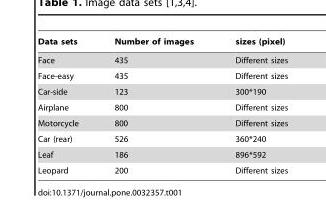table: (37, 36, 287, 174)
table column: (95, 36, 213, 174), (213, 36, 287, 174), (37, 36, 95, 174)
table column header: (37, 36, 287, 50)
table row: (37, 50, 287, 67), (37, 67, 287, 83), (37, 83, 287, 99), (37, 99, 287, 115), (37, 130, 287, 146), (37, 146, 287, 162), (37, 115, 287, 130), (37, 36, 287, 50), (37, 162, 287, 174)
